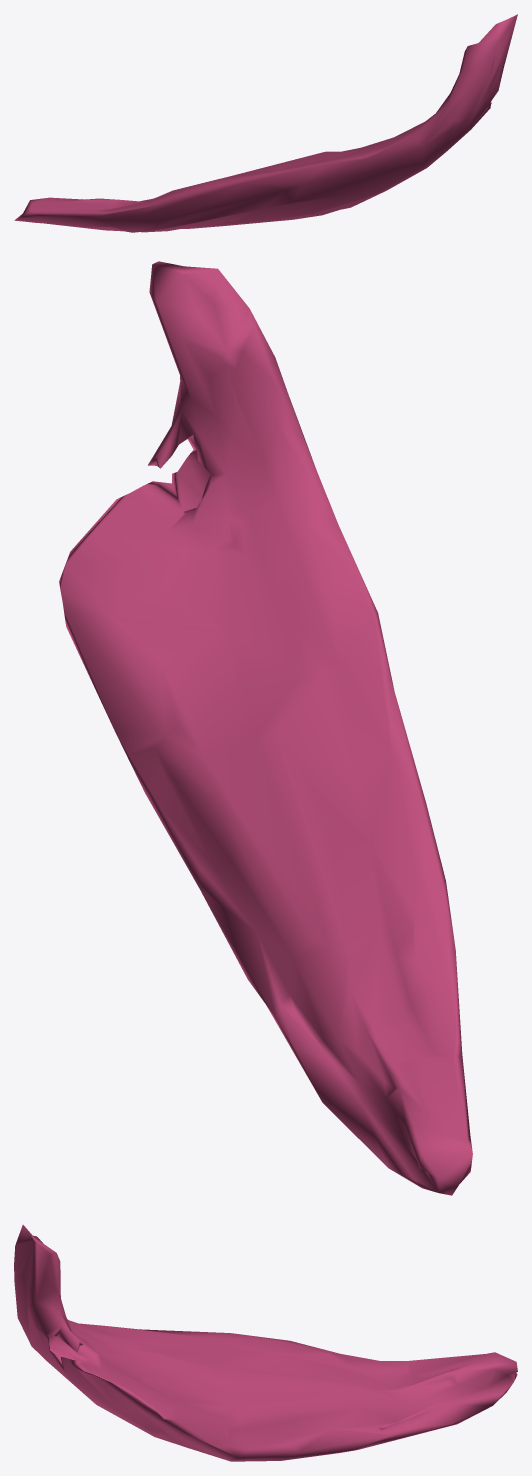
3 views of the same model, one above another, from view 1: azimuth 30°, elevation 25°; view 2: azimuth 150°, elevation 25°; view 3: azimuth 270°, elevation 25° (orthographic). The views are drawn at different scales.
Visible parts, largest first — view 1: 右侧拇短展肌; view 2: 右侧拇短展肌; view 3: 右侧拇短展肌.
Boxes of the visible parts, x1=… form: 右侧拇短展肌: x1=14, y1=14, x2=517, y2=232; 右侧拇短展肌: x1=59, y1=261, x2=472, y2=1195; 右侧拇短展肌: x1=14, y1=1225, x2=517, y2=1461.
Size of the model in its own units: 0.0599 by 0.0451 by 0.0582.
